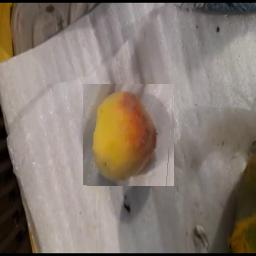Peach Semifresh: (84, 85, 175, 187)
